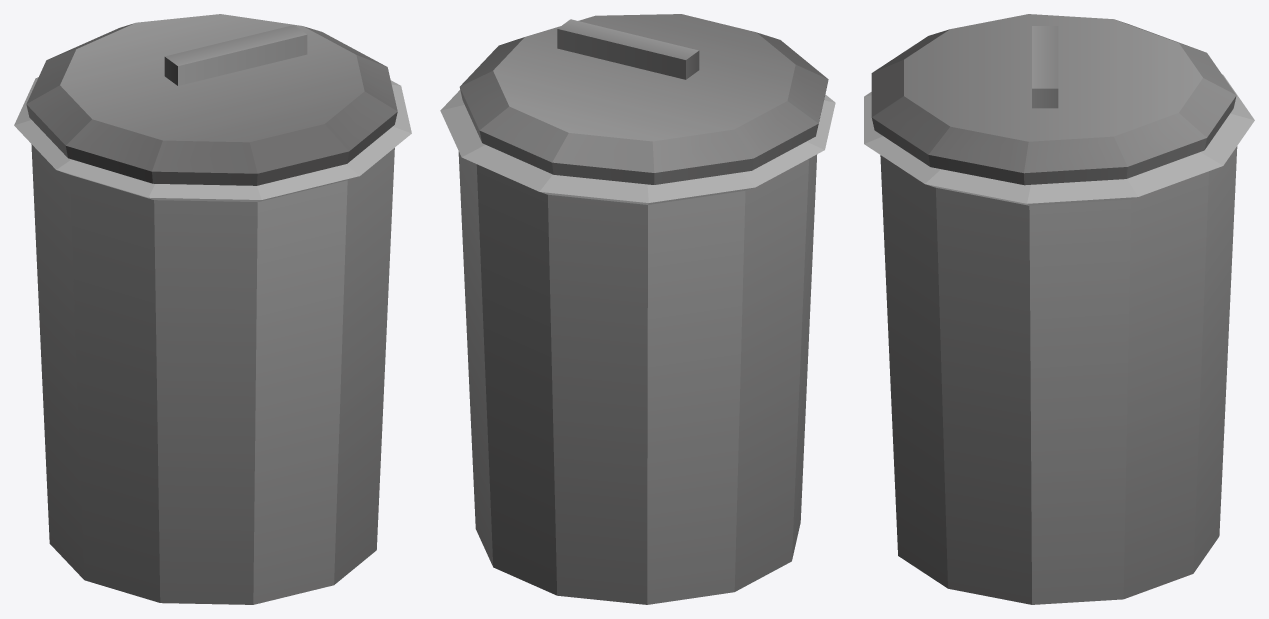
File: B02_Poubelle_of.fbx
3 views of the same model, side by side, from view 1: azimuth 30°, elevation 25°; view 2: azimuth 150°, elevation 25°; view 3: azimuth 270°, elevation 25° (orthographic).
Parts seen in each view (by area): view 1: B02_Poubelle_of; view 2: B02_Poubelle_of; view 3: B02_Poubelle_of.
Part boxes in pixels (bbox=[...]): B02_Poubelle_of: bbox=[14, 14, 411, 604]; B02_Poubelle_of: bbox=[440, 14, 835, 604]; B02_Poubelle_of: bbox=[864, 14, 1254, 604].
Bounding box in the file's own units: 123 × 167 × 121.
